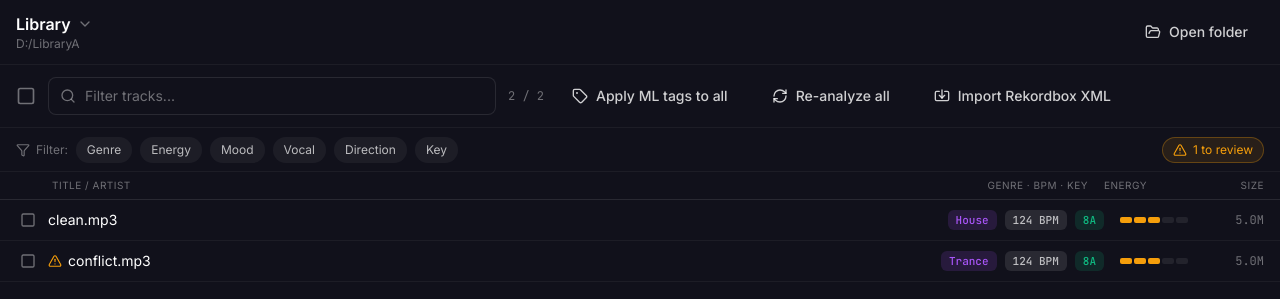
Test case: <LibraryBrowser /> — review (genre conflict) filter › resets the Review filter on a library switch
This screenshot has width=1280, height=299.
Click the button "1 to review".
click(1213, 150)  # box [1162,136,1264,162]
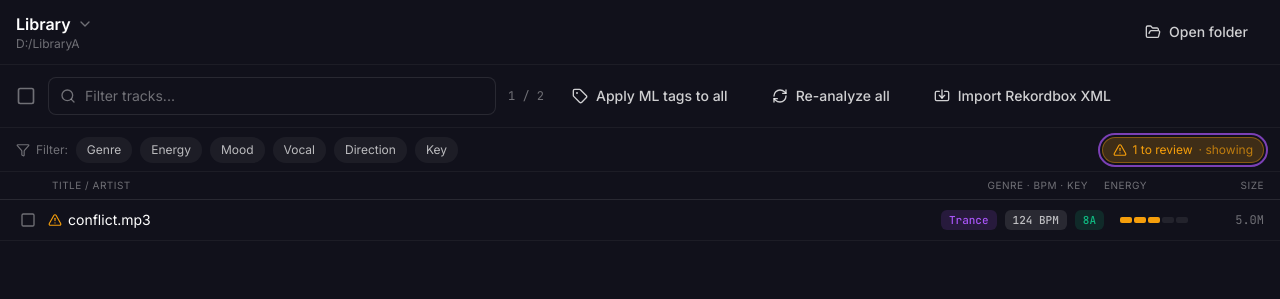
expect the text "1 / 2" is shown: met, box [508,88,544,104]
Click the button "Library".
click(54, 24)  # box [16,12,93,36]
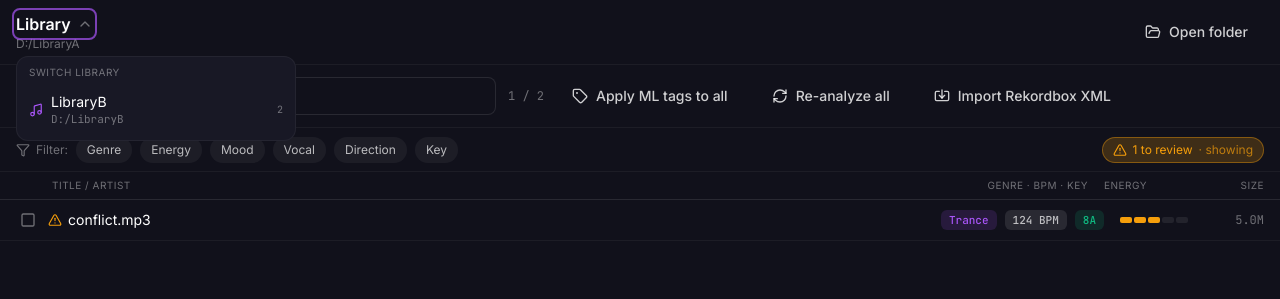
Click the option "LibraryB D:/LibraryB 2".
click(79, 102)  # box [21,84,291,136]
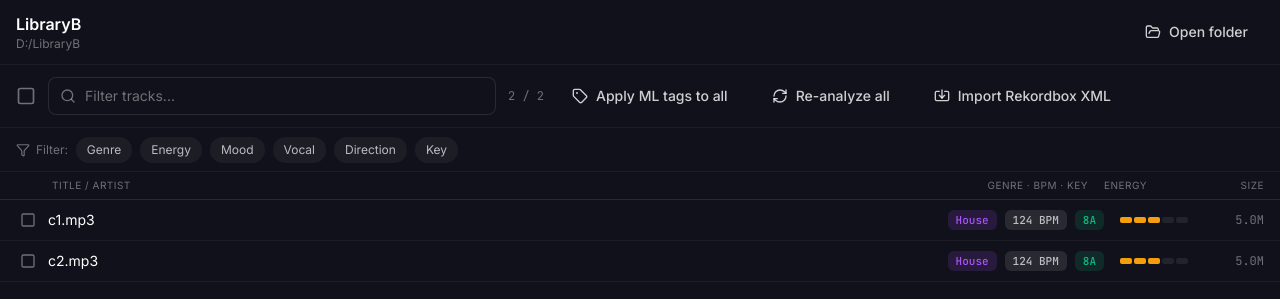
expect the text "2 / 2" is shown: met, box [508,88,544,104]
